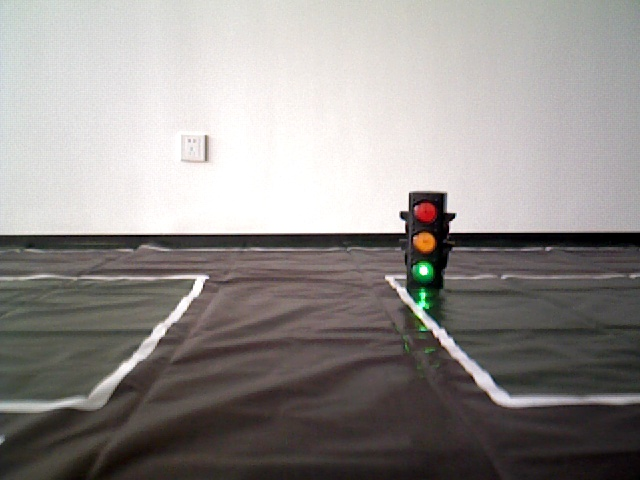green: (407, 194, 438, 286)
